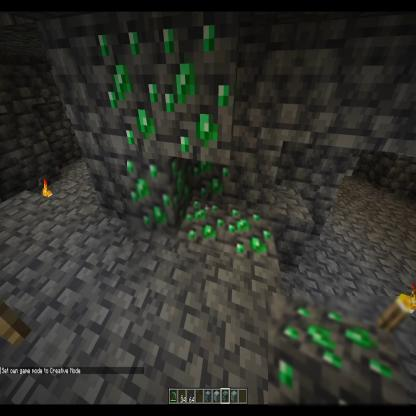emerald ore: (268, 296, 410, 416), (145, 15, 240, 165), (91, 19, 163, 155), (128, 159, 194, 239), (226, 204, 281, 265), (176, 196, 228, 252), (191, 161, 231, 201)
